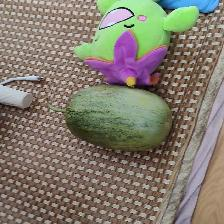gua: (76, 89, 165, 136)
